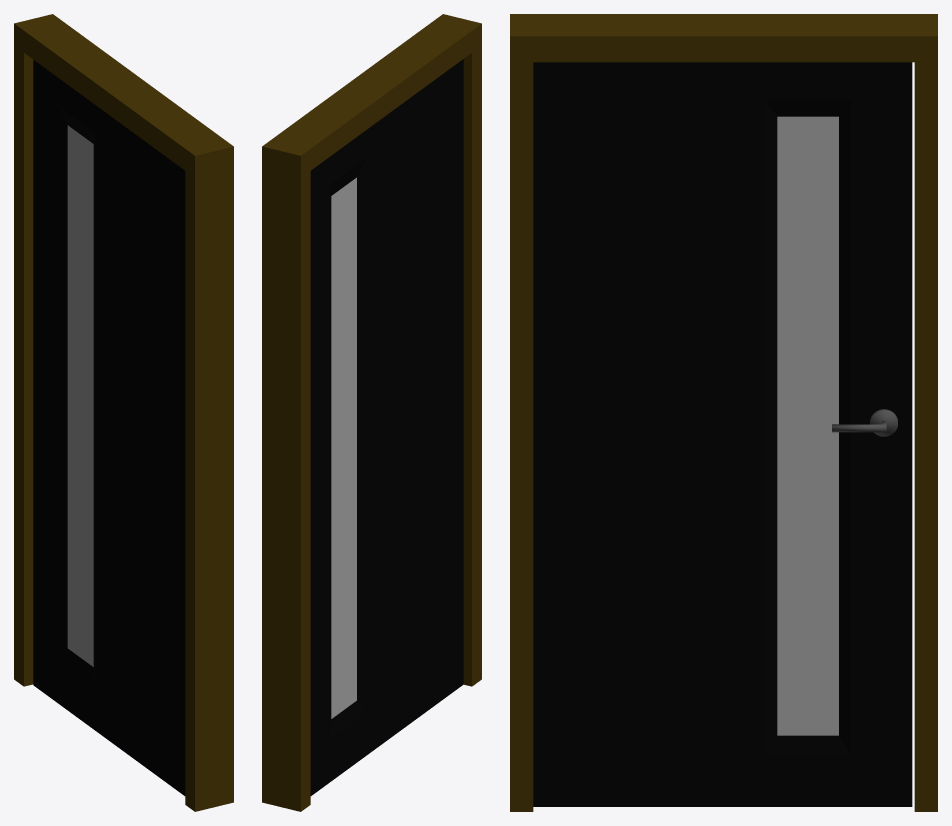
File: door.glb
The picture shows the model from 3 angles, left to right: view 1: azimuth 30°, elevation 25°; view 2: azimuth 150°, elevation 25°; view 3: azimuth 270°, elevation 25°; orthographic projection. The views are drawn at different scales.
Parts seen in each view (by area): view 1: Cube.008, Cube.001; view 2: Cube.008, Cube.001; view 3: Cube.008, Cube.001, Cube.015.
Boxes of the visible parts, x1,y1,x2,y2 form: Cube.008: (33,60,185,795); Cube.001: (14,14,233,811); Cube.008: (310,59,463,795); Cube.001: (262,14,481,811); Cube.008: (533,62,912,806); Cube.001: (510,14,937,811); Cube.015: (832,409,897,436).
Size of the model in its own units: 0.164 by 2.14 by 1.07.
